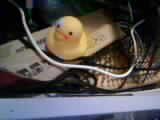duck: (53, 15, 86, 50)
